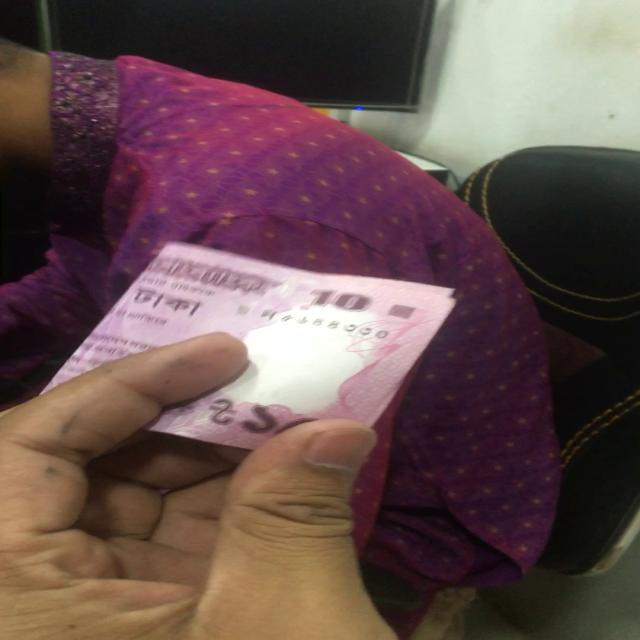Taka: (49, 244, 459, 447)
